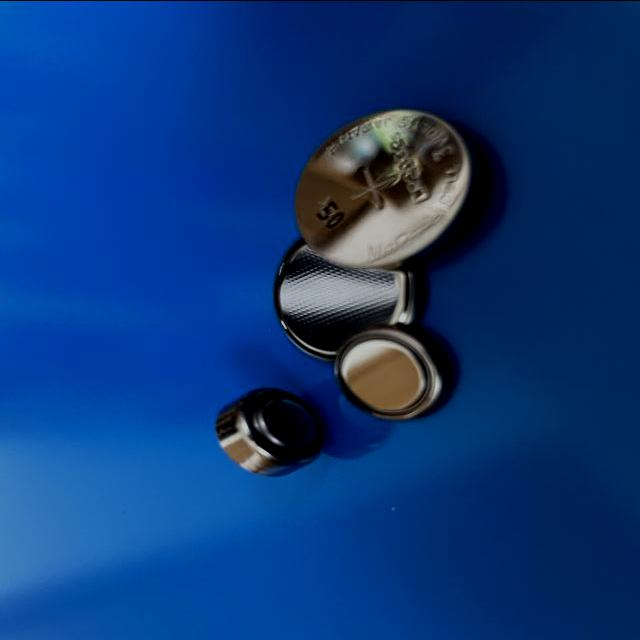COIN: (290, 105, 490, 272), (270, 214, 427, 364), (332, 325, 452, 423), (210, 383, 328, 474)
